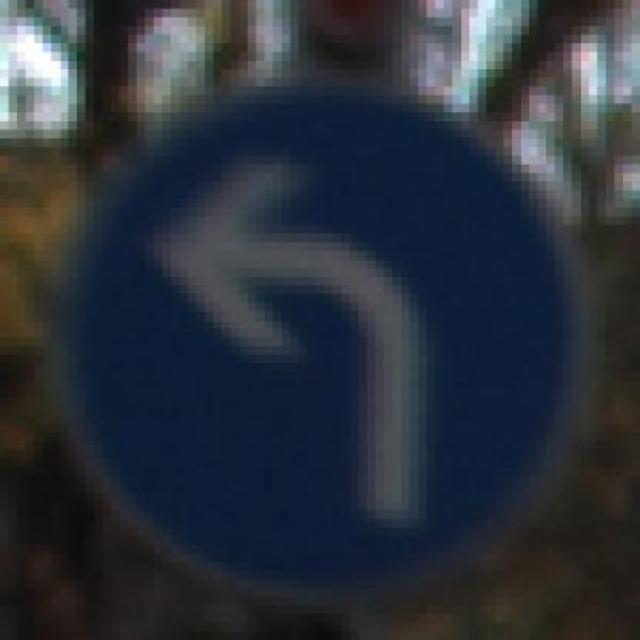Turn left ahead: (60, 69, 606, 588)
